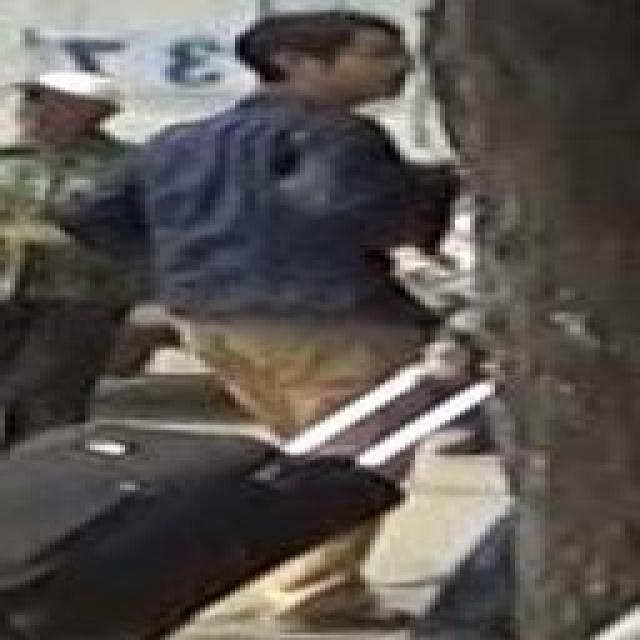adult: (70, 14, 508, 615), (0, 77, 154, 452)
